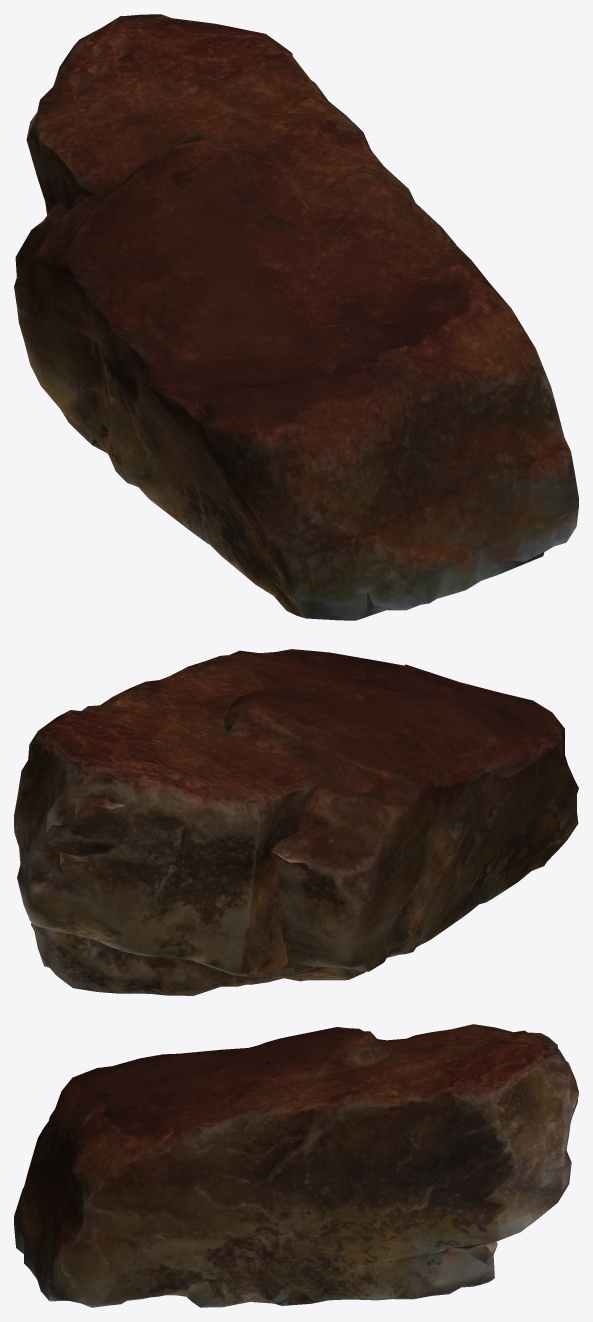
Rendered from rock_chunk_a.glb.
3 views of the same model, one above another, from view 1: azimuth 30°, elevation 25°; view 2: azimuth 150°, elevation 25°; view 3: azimuth 270°, elevation 25° (orthographic). The views are drawn at different scales.
Visible parts, largest first — view 1: rock_chunk_a; view 2: rock_chunk_a; view 3: rock_chunk_a.
Part boxes in pixels (x1,y1,x2,y2): rock_chunk_a: (14,14,578,620); rock_chunk_a: (14,649,578,995); rock_chunk_a: (14,1024,578,1307).
Size of the model in its own units: 0.5773 by 0.4934 by 1.1.
Materials: 1 (1 with a texture image).
